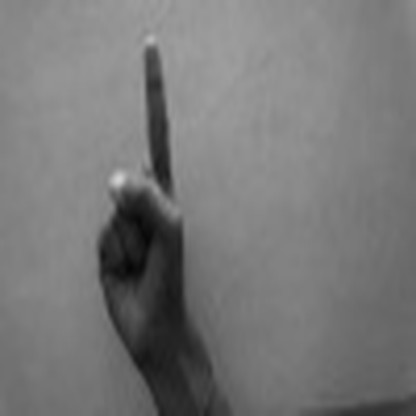d: (81, 29, 204, 356)
